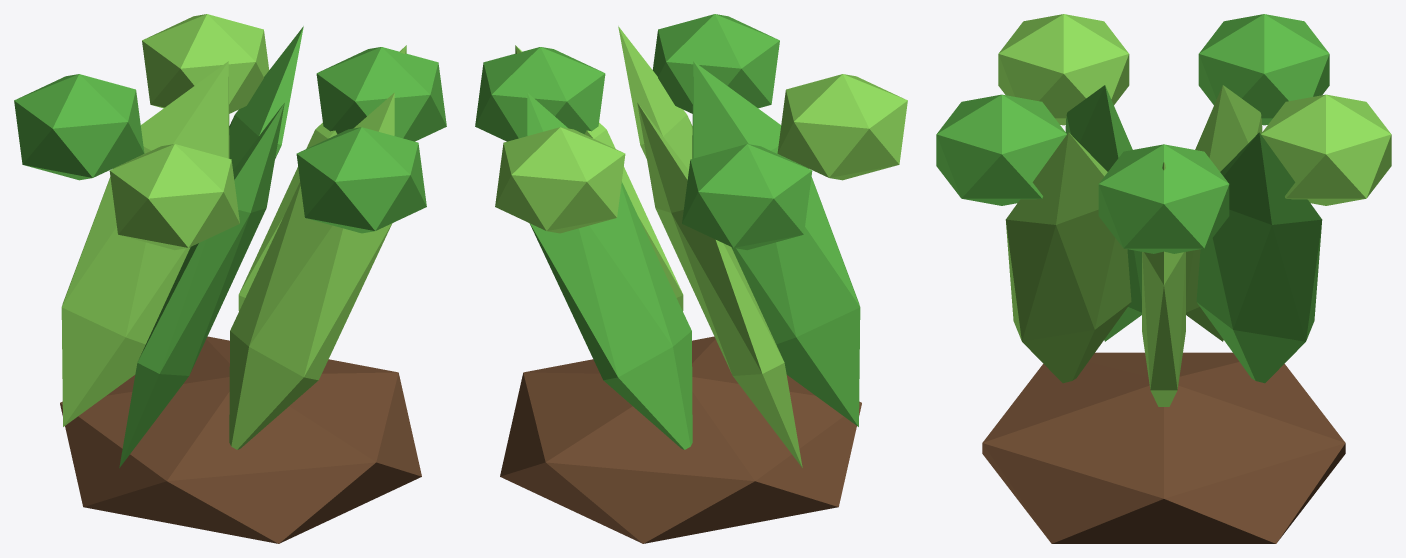
Rendered from crop_carrot_2.glb.
3 views of the same model, side by side, from view 1: azimuth 30°, elevation 25°; view 2: azimuth 150°, elevation 25°; view 3: azimuth 270°, elevation 25° (orthographic). The views are drawn at different scales.
Parts seen in each view (by area): view 1: crop_carrot_2; view 2: crop_carrot_2; view 3: crop_carrot_2.
Boxes of the visible parts, bbox=[...] form: crop_carrot_2: bbox=[14, 14, 446, 543]; crop_carrot_2: bbox=[475, 14, 907, 543]; crop_carrot_2: bbox=[936, 14, 1391, 543].
Bounding box in the file's own units: 0.3528 × 0.3875 × 0.3601.
